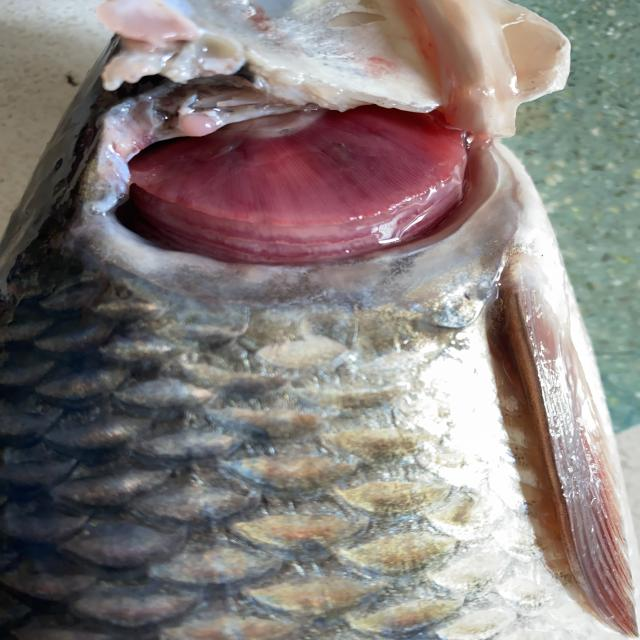Fresh: (89, 62, 527, 280)
